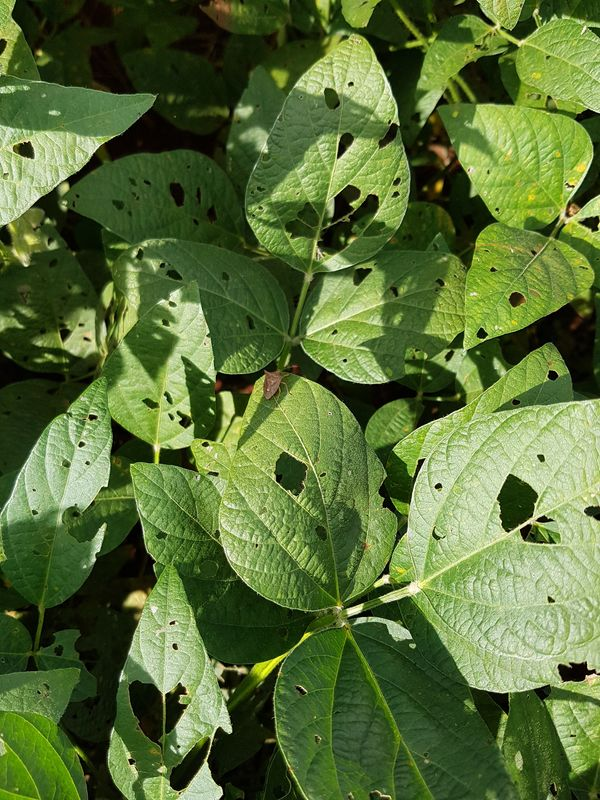Euschistus_heros_adulto: (245, 357, 303, 408)
